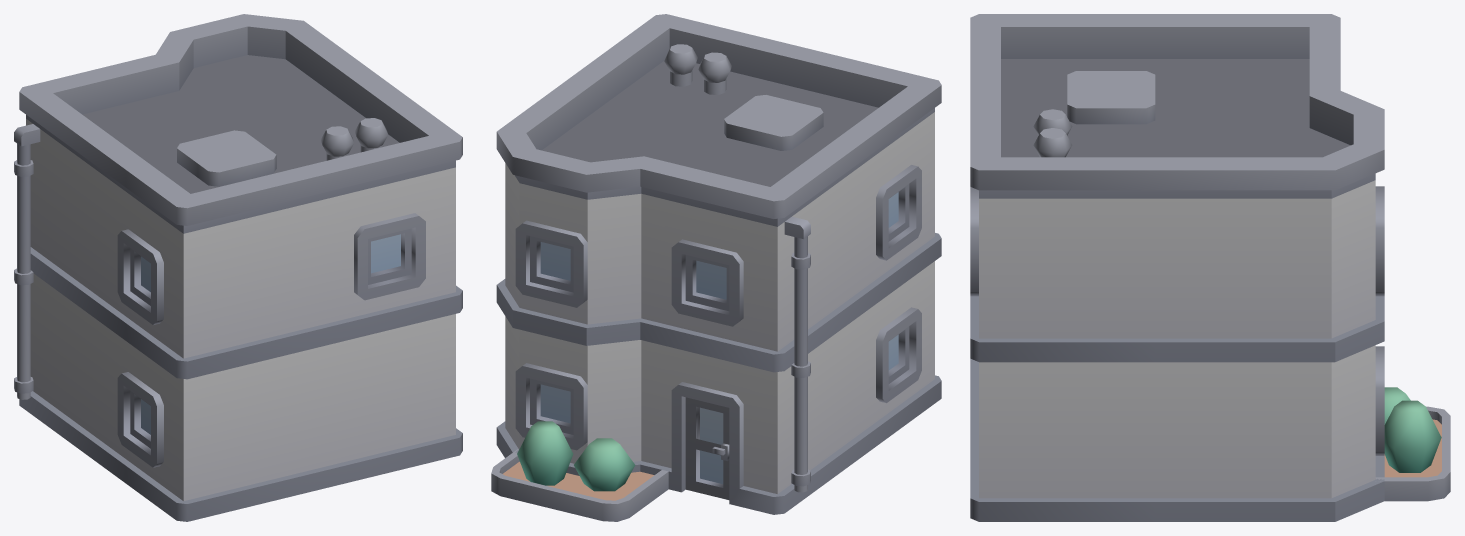
Rendered from shop-b.glb.
3 views of the same model, side by side, from view 1: azimuth 30°, elevation 25°; view 2: azimuth 150°, elevation 25°; view 3: azimuth 270°, elevation 25° (orthographic). The views are drawn at different scales.
Visible parts, largest first — view 1: shop-b; view 2: shop-b; view 3: shop-b.
Part boxes in pixels (left/top/right/bottom): shop-b: left=14, top=14, right=462, bottom=521; shop-b: left=491, top=14, right=941, bottom=521; shop-b: left=970, top=14, right=1450, bottom=521.
Bounding box in the file's own units: 0.8106 × 0.8193 × 1.
